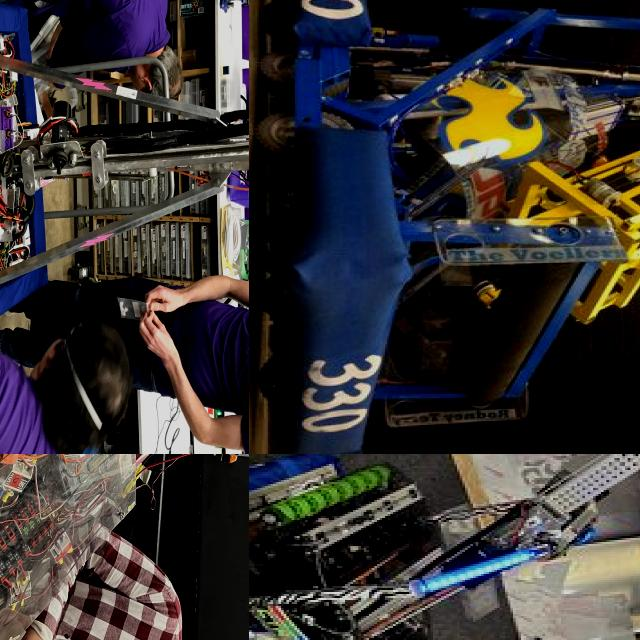FRC-Robots: (283, 0, 640, 454), (0, 0, 249, 402), (249, 454, 640, 640), (0, 454, 249, 640)
